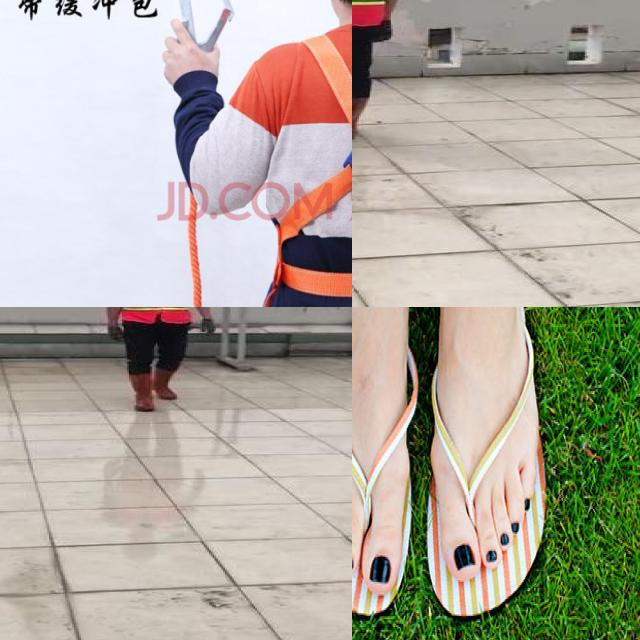Harness: (270, 37, 352, 307)
Sandals: (352, 307, 591, 640)
boots: (126, 371, 156, 410), (150, 363, 179, 401), (352, 96, 369, 141)
hand_glove: (375, 20, 395, 44), (197, 319, 220, 337), (104, 325, 122, 344)
person: (99, 307, 215, 414)
vest: (120, 307, 193, 326)
